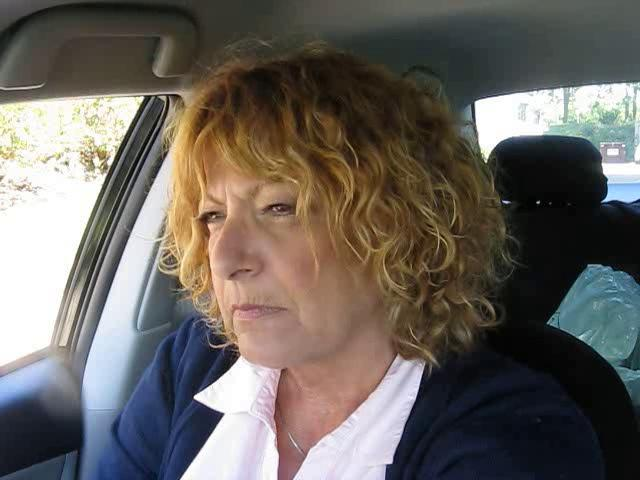close_eyeL: (191, 201, 236, 232)
close_eyeR: (247, 187, 320, 233)
no_yawn: (218, 283, 305, 340)
